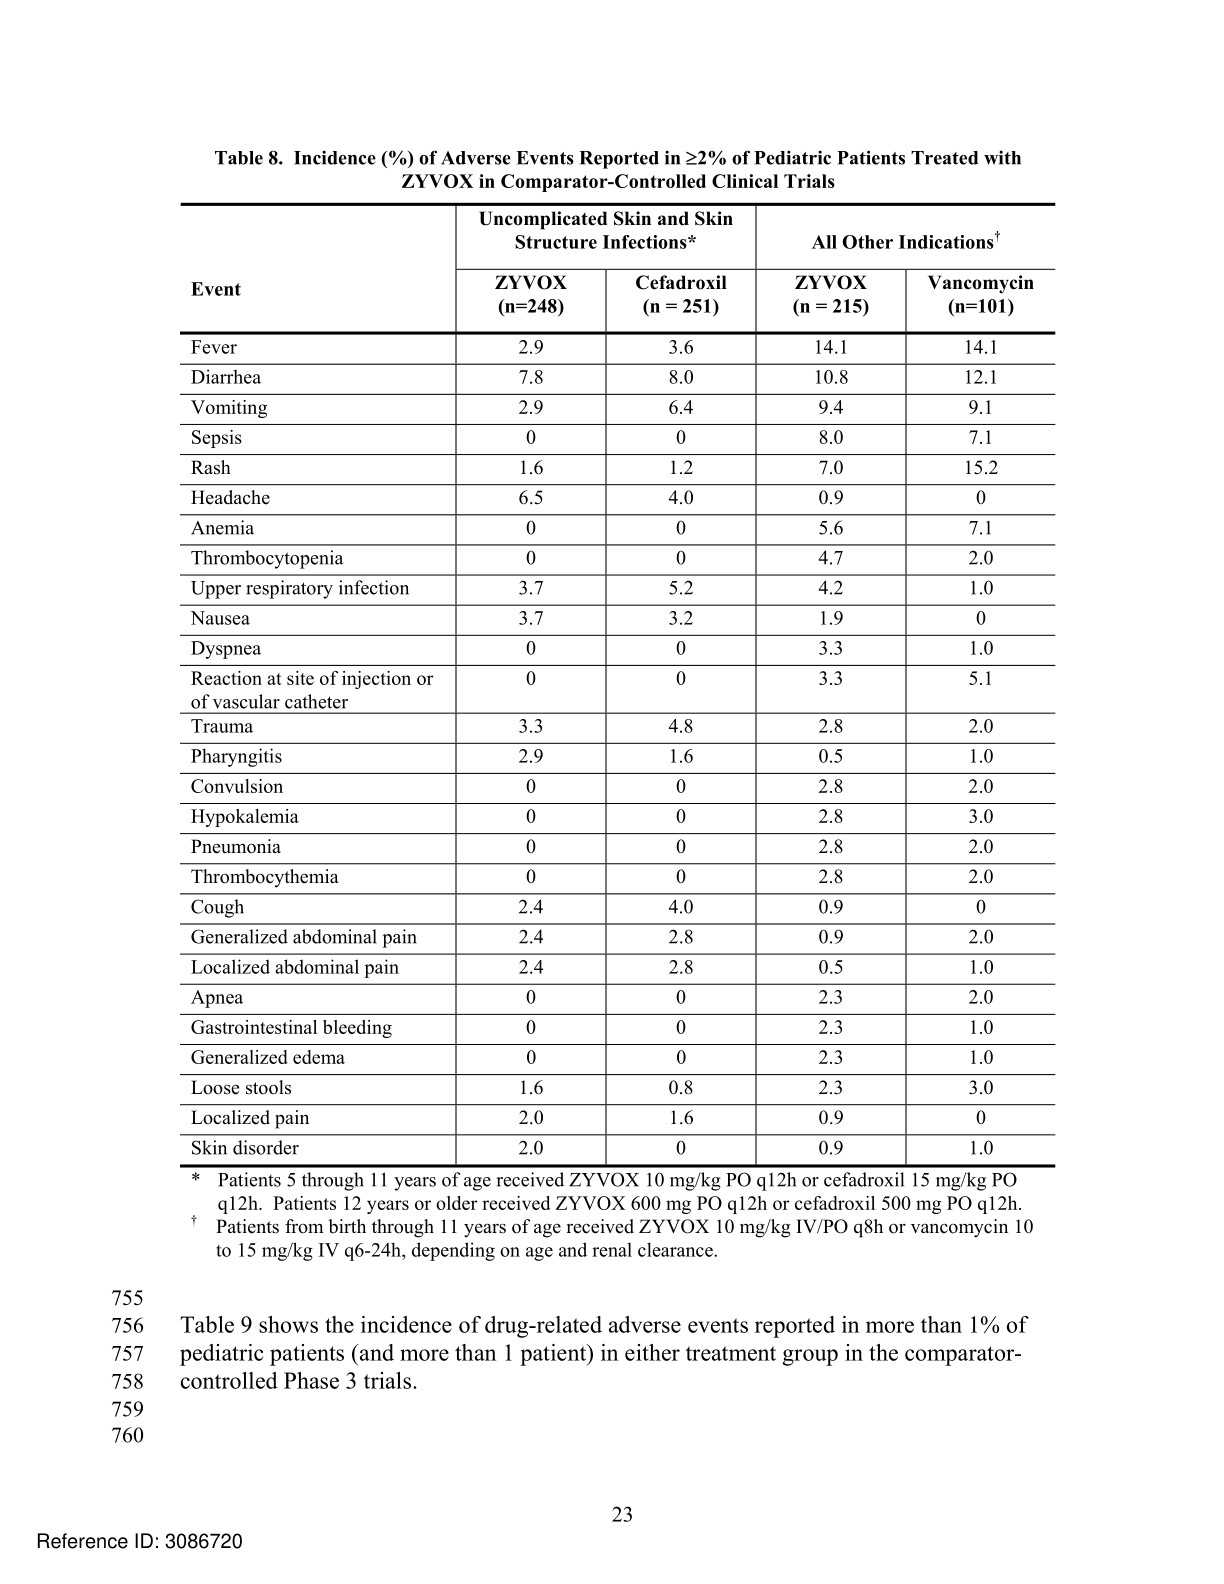partial_lined_merged_cells: (177, 201, 1058, 1171)
